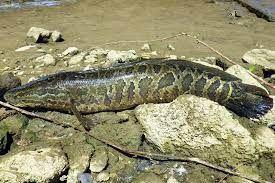Snakehead: (5, 60, 274, 126)
